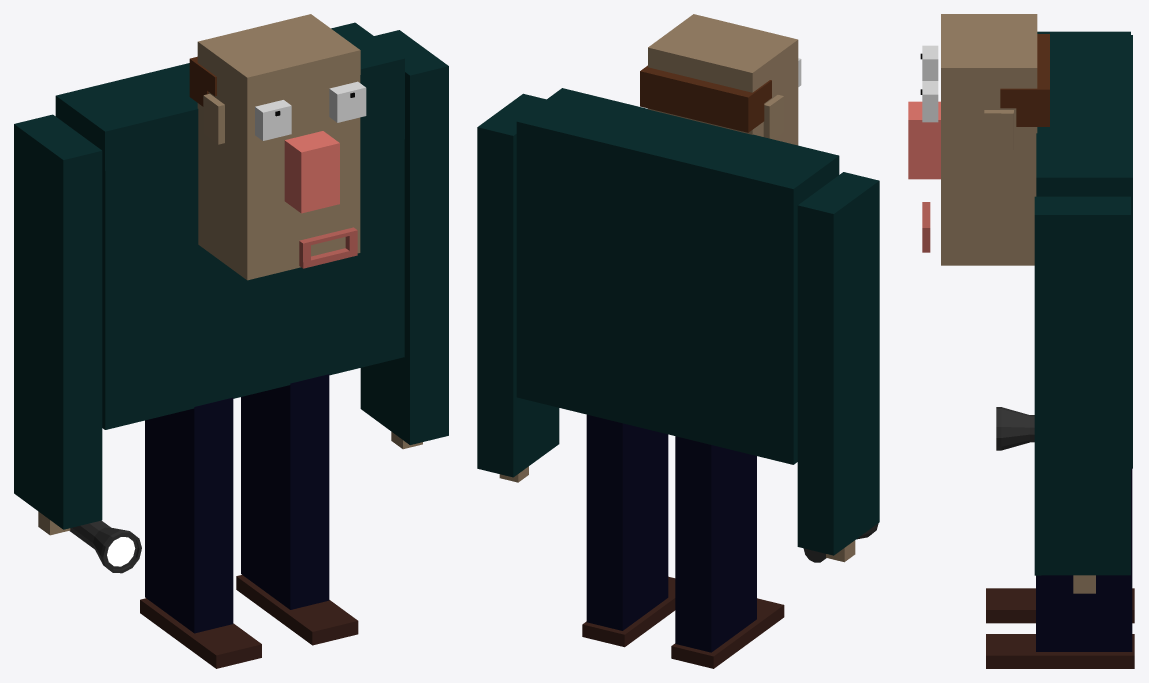
The model's file is Man.glb.
The picture shows the model from 3 angles, left to right: view 1: azimuth 30°, elevation 25°; view 2: azimuth 150°, elevation 25°; view 3: azimuth 270°, elevation 25°; orthographic projection. The views are drawn at different scales.
Visible parts, largest first — view 1: Cube, Cube.002, Cube.001, Cube.003, Cube.004, Cube.005, Cube.010, Cube.007, Cube.006, Cylinder, Cube.011, Cube.016 (+3 smaller); view 2: Cube, Cube.002, Cube.003, Cube.004, Cube.005, Cube.001, Cube.013, Cube.006, Cube.007, Cube.014; view 3: Cube.003, Cube.001, Cube, Cube.004, Cube.007, Cube.013, Cube.010, Cube.006, Cylinder, Cube.015, Cube.016, Cube.012 (+3 smaller).
Boxes of the visible parts, bbox=[...] form: Cube: bbox=[55, 22, 404, 429]; Cube.002: bbox=[14, 114, 102, 529]; Cube.001: bbox=[197, 14, 360, 280]; Cube.003: bbox=[360, 30, 448, 444]; Cube.004: bbox=[241, 374, 329, 609]; Cube.005: bbox=[145, 397, 233, 633]; Cube.010: bbox=[284, 131, 339, 213]; Cube.007: bbox=[236, 575, 358, 645]; Cube.006: bbox=[140, 598, 261, 668]; Cylinder: bbox=[69, 520, 141, 573]; Cube.011: bbox=[299, 227, 357, 268]; Cube.016: bbox=[329, 81, 366, 122]; Cube: bbox=[516, 88, 839, 464]; Cube.002: bbox=[797, 172, 879, 555]; Cube.003: bbox=[477, 93, 559, 477]; Cube.004: bbox=[586, 414, 668, 630]; Cube.005: bbox=[675, 436, 756, 652]; Cube.001: bbox=[648, 14, 798, 145]; Cube.013: bbox=[640, 65, 771, 132]; Cube.006: bbox=[671, 598, 784, 668]; Cube.007: bbox=[582, 576, 675, 647]; Cube.014: bbox=[763, 95, 783, 139]; Cube.003: bbox=[1034, 196, 1130, 575]; Cube.001: bbox=[941, 14, 1037, 265]; Cube: bbox=[1036, 35, 1132, 468]; Cube.004: bbox=[1036, 468, 1132, 651]; Cube.007: bbox=[986, 634, 1134, 668]; Cube.013: bbox=[1000, 34, 1049, 126]; Cube.010: bbox=[908, 101, 940, 179]; Cube.006: bbox=[986, 588, 1134, 623]; Cylinder: bbox=[996, 407, 1034, 450]; Cube.015: bbox=[984, 110, 1013, 150]; Cube.016: bbox=[922, 81, 938, 122]; Cube.012: bbox=[922, 45, 938, 80].
Size of the model in its own units: 5.84 by 8.78 by 3.05.
